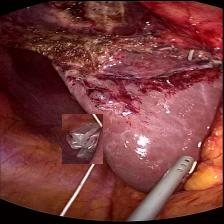Irrigator: (162, 150, 200, 182)
Specimen Bag: (62, 113, 103, 163)
